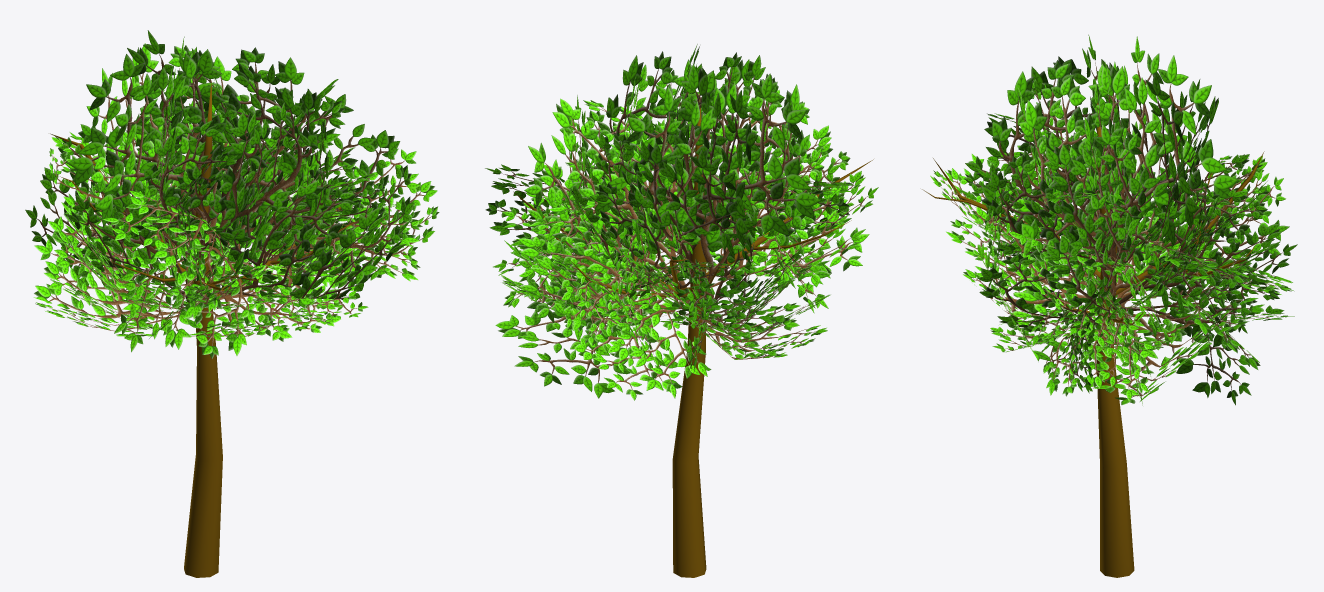
File: Tree 1.fbx
3 renders of one model, left to right at view 1: azimuth 30°, elevation 25°; view 2: azimuth 150°, elevation 25°; view 3: azimuth 270°, elevation 25°, orthographic. The views are drawn at different scales.
Parts seen in each view (by area): view 1: Tree; view 2: Tree; view 3: Tree.
Part boxes in pixels (x1,y1,x2,y2): Tree: (25,30,439,577); Tree: (485,44,878,577); Tree: (922,34,1297,577).
Bounding box in the file's own units: 13.95 × 17.47 × 12.26.
